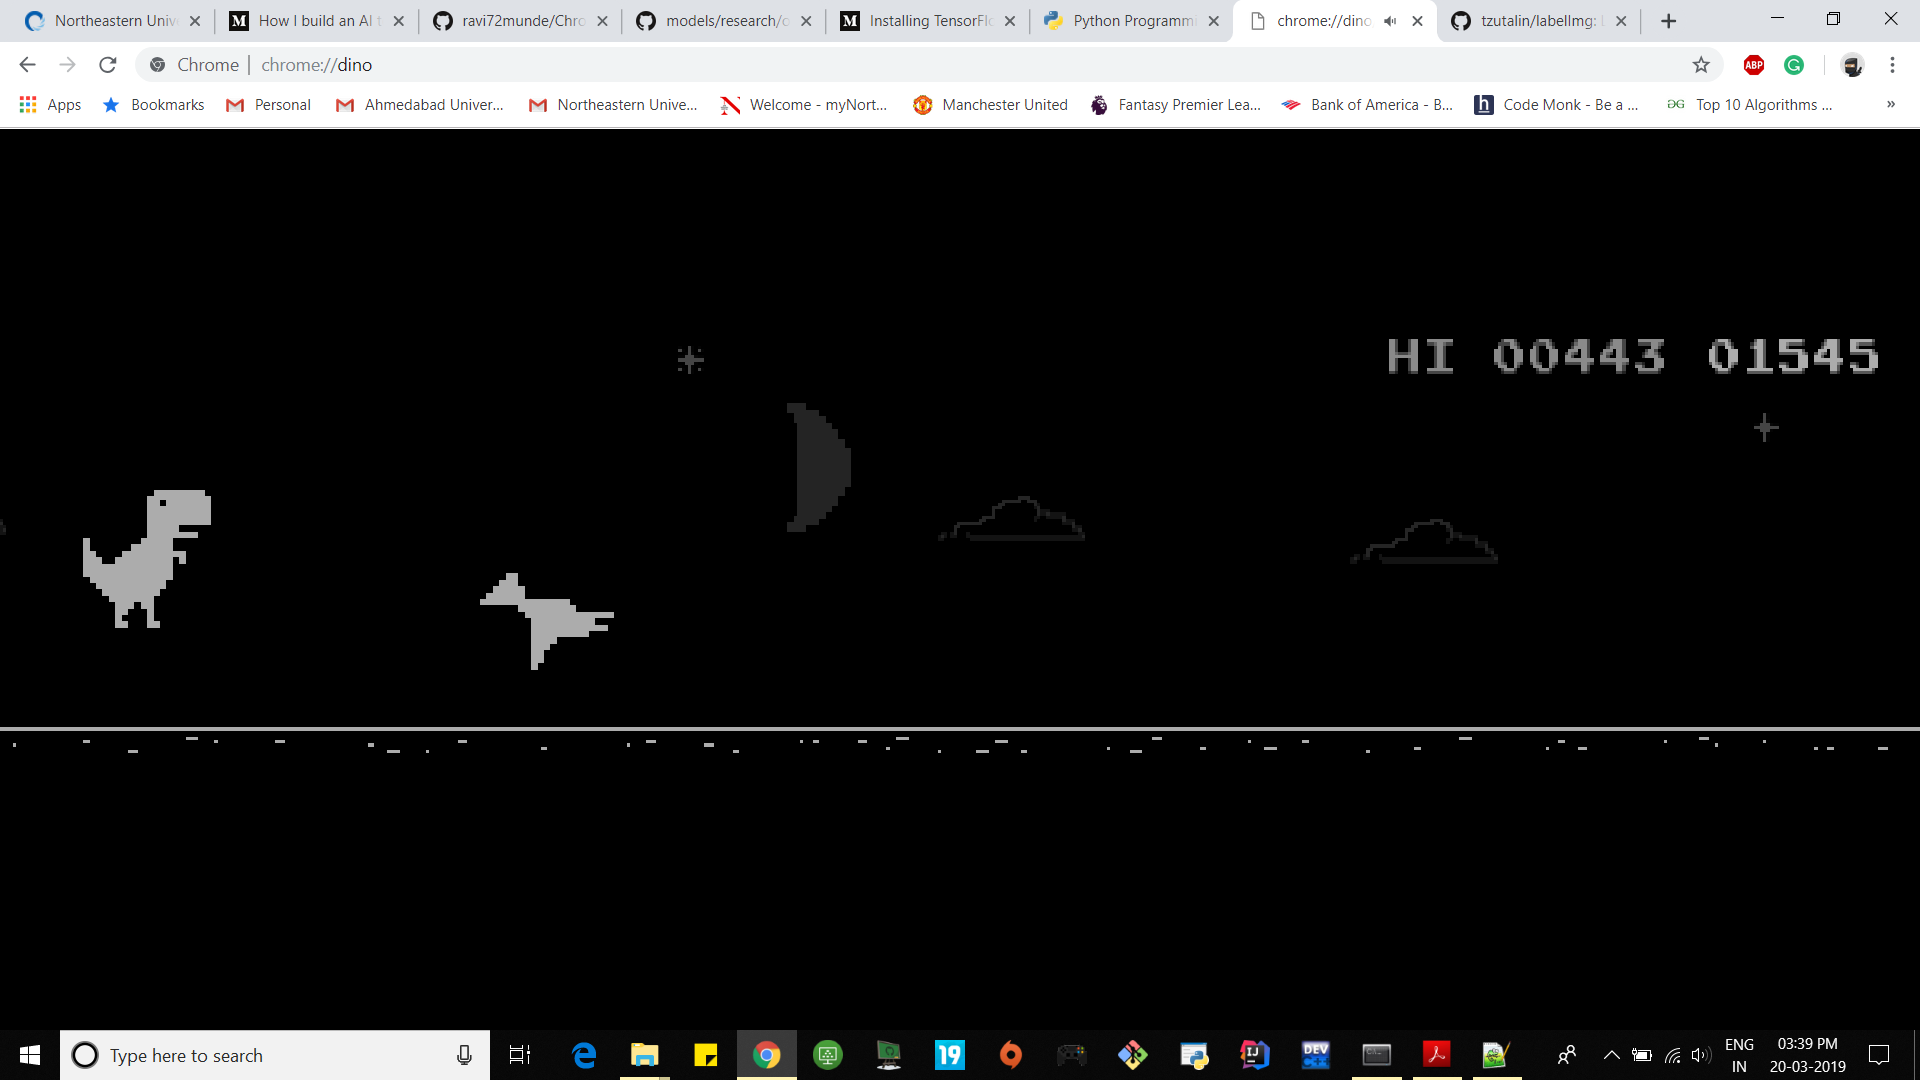bird: (480, 574, 615, 671)
dino: (80, 488, 210, 632)
